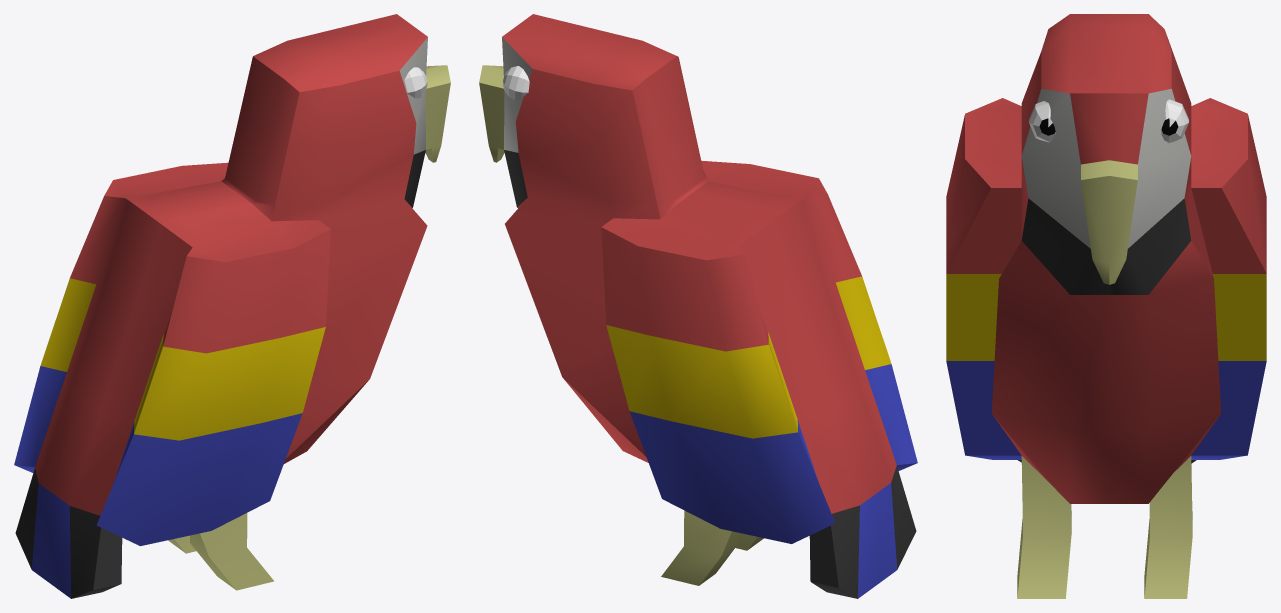
Rendered from bird1.fbx.
3 renders of one model, left to right at view 1: azimuth 30°, elevation 25°; view 2: azimuth 150°, elevation 25°; view 3: azimuth 270°, elevation 25°, orthographic. The views are drawn at different scales.
Visible parts, largest first — view 1: pSphere2; view 2: pSphere2; view 3: pSphere2.
Boxes of the visible parts, x1,y1,x2,y2 form: pSphere2: (14, 14, 450, 598); pSphere2: (479, 14, 917, 598); pSphere2: (946, 14, 1266, 598).
Bounding box in the file's own units: 4.29 × 5.04 × 2.39.
